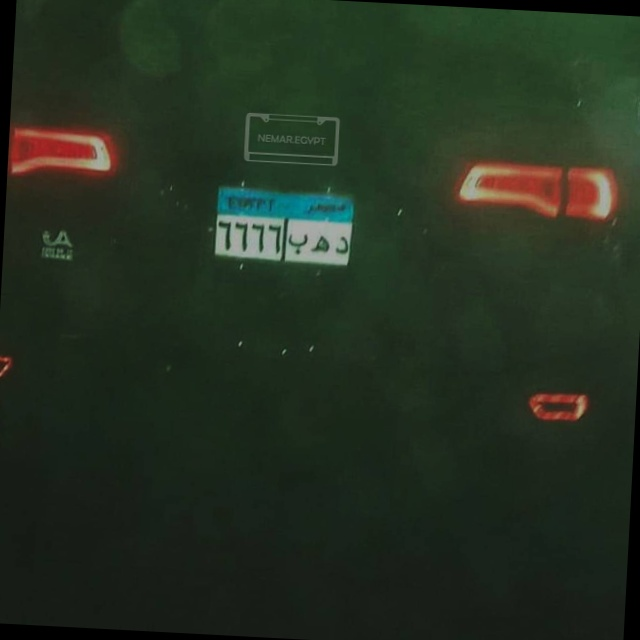License Plate: (208, 181, 360, 272)
